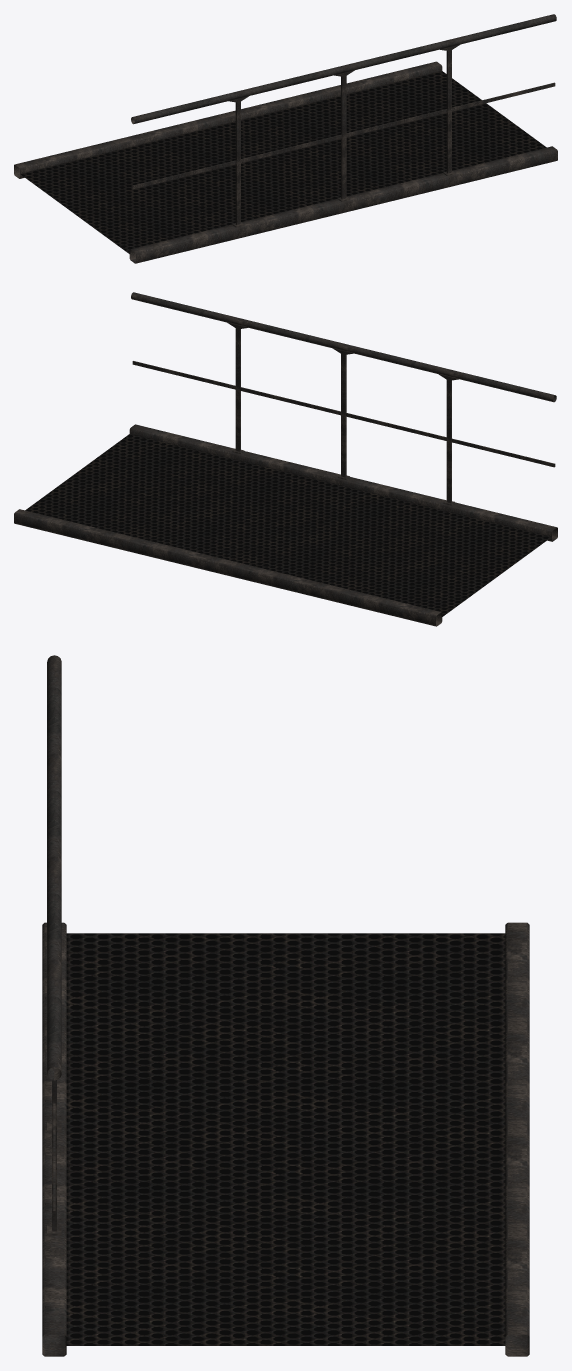
The model's file is catwalk_1.obj.
3 views of the same model, one above another, from view 1: azimuth 30°, elevation 25°; view 2: azimuth 150°, elevation 25°; view 3: azimuth 270°, elevation 25° (orthographic). The views are drawn at different scales.
Visible parts, largest first — view 1: catwalk_1, handrail_4; view 2: catwalk_1, handrail_4; view 3: catwalk_1, handrail_4.
Boxes of the visible parts, x1,y1,x2,y2 form: catwalk_1: [14, 61, 557, 263]; handrail_4: [131, 14, 556, 227]; catwalk_1: [14, 424, 557, 626]; handrail_4: [131, 292, 556, 505]; catwalk_1: [42, 922, 529, 1356]; handrail_4: [47, 655, 61, 1235].
Bounding box in the file's own units: 4 × 1.31 × 2.
